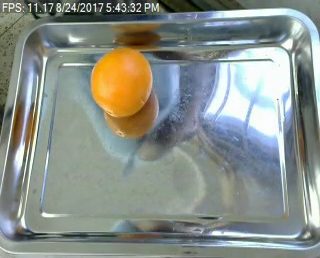Orange: (89, 47, 153, 116)
